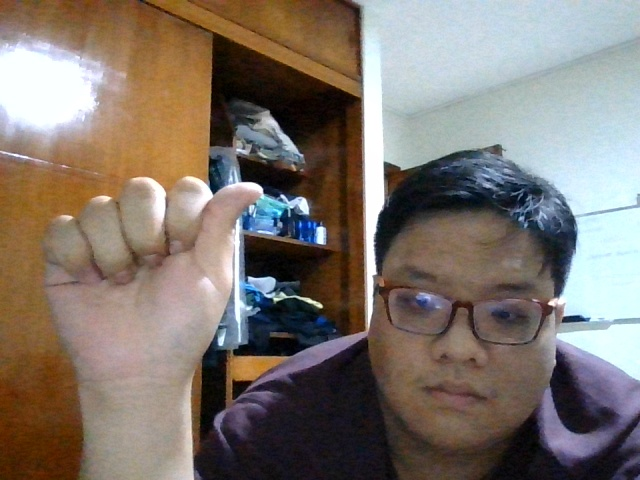a: (40, 174, 270, 383)
